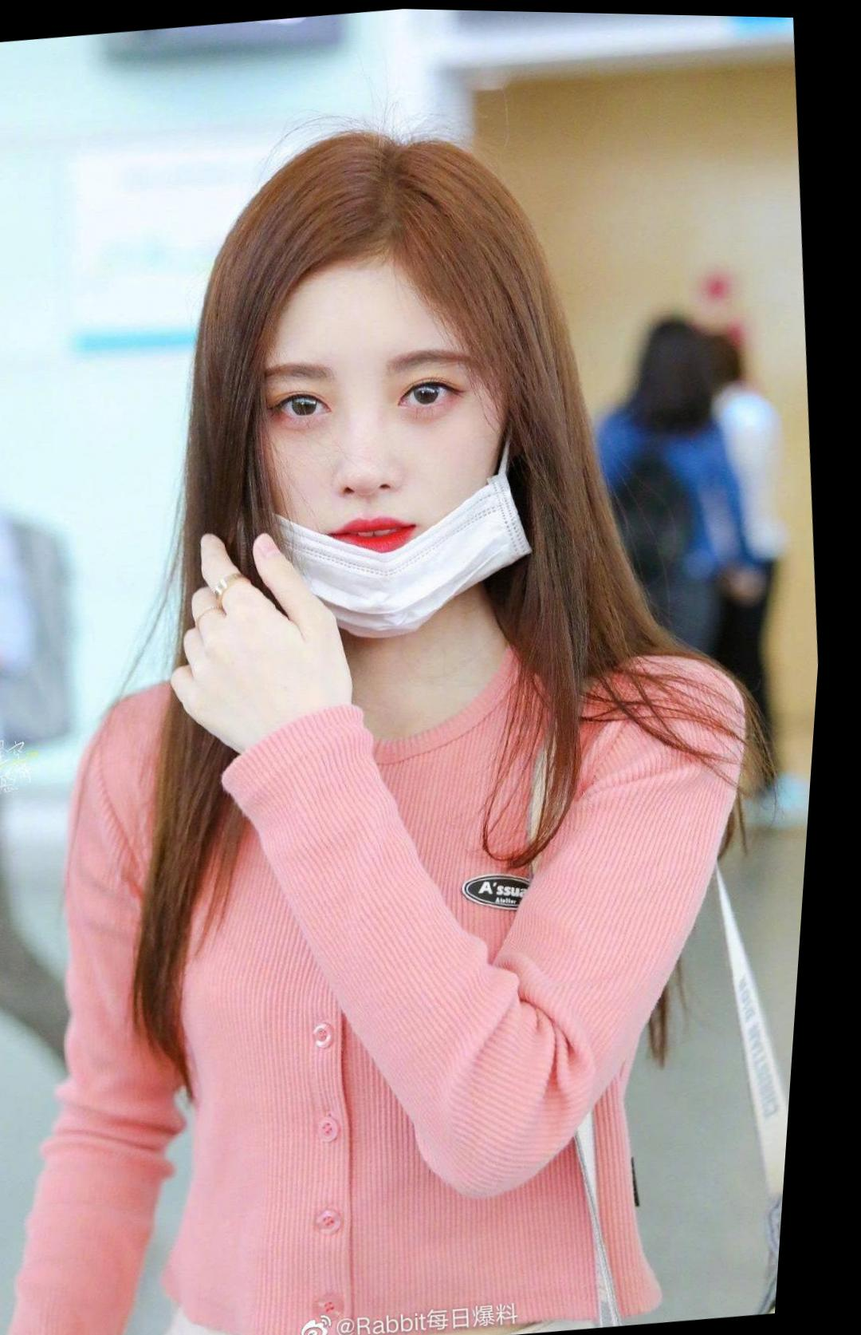WRONG: (240, 291, 535, 639)
